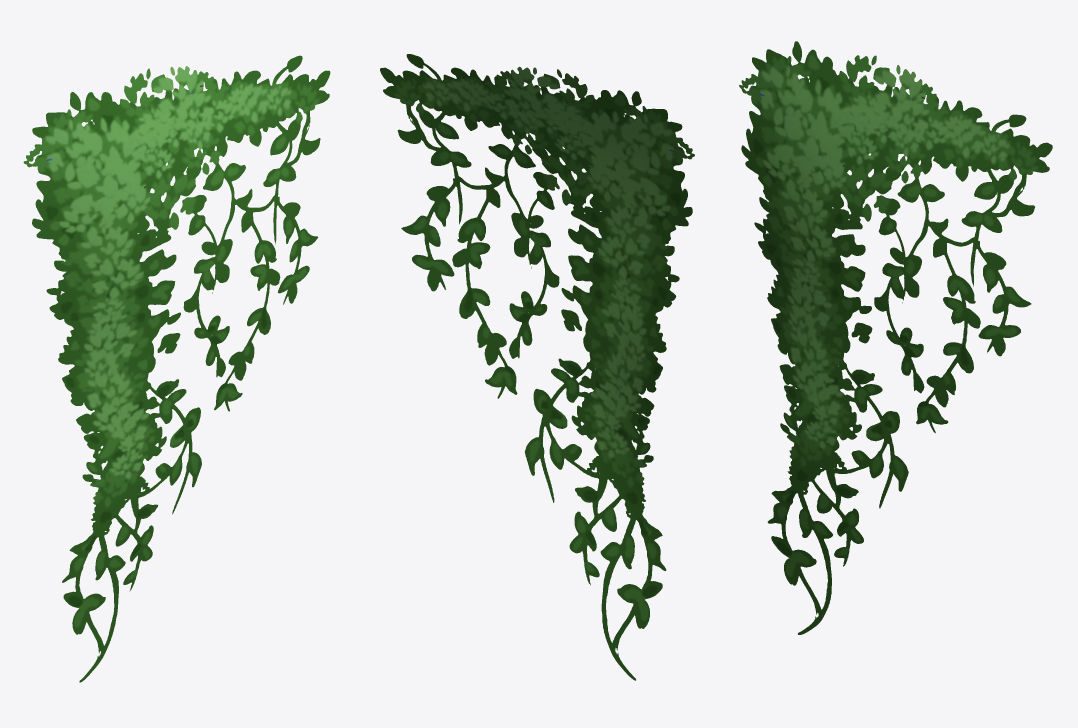
File: E_Esquina.fbx
The picture shows the model from 3 angles, left to right: view 1: azimuth 30°, elevation 25°; view 2: azimuth 150°, elevation 25°; view 3: azimuth 330°, elevation 25°; orthographic projection.
Visible parts, largest first — view 1: E_Esquina; view 2: E_Esquina; view 3: E_Esquina.
Boxes of the visible parts, bbox=[...] form: E_Esquina: bbox=[23, 55, 330, 682]; E_Esquina: bbox=[380, 54, 694, 680]; E_Esquina: bbox=[739, 41, 1052, 634].
Bounding box in the file's own units: 602 × 1101 × 72.15.
Materials: 1 (1 with a texture image).
